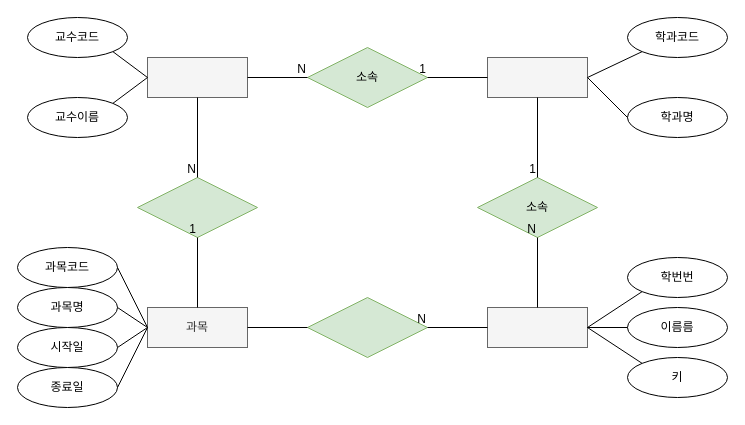
Image size: 745x425. Some labels were removed from this diagram. Here are the shapes that lost their labels. From the top down, the centre of each, then its label:
At [197,77]: "교수".
At [537,77]: "학과".
At [197,207]: "강의".
At [367,327]: "수강".
At [537,327]: "학생".
